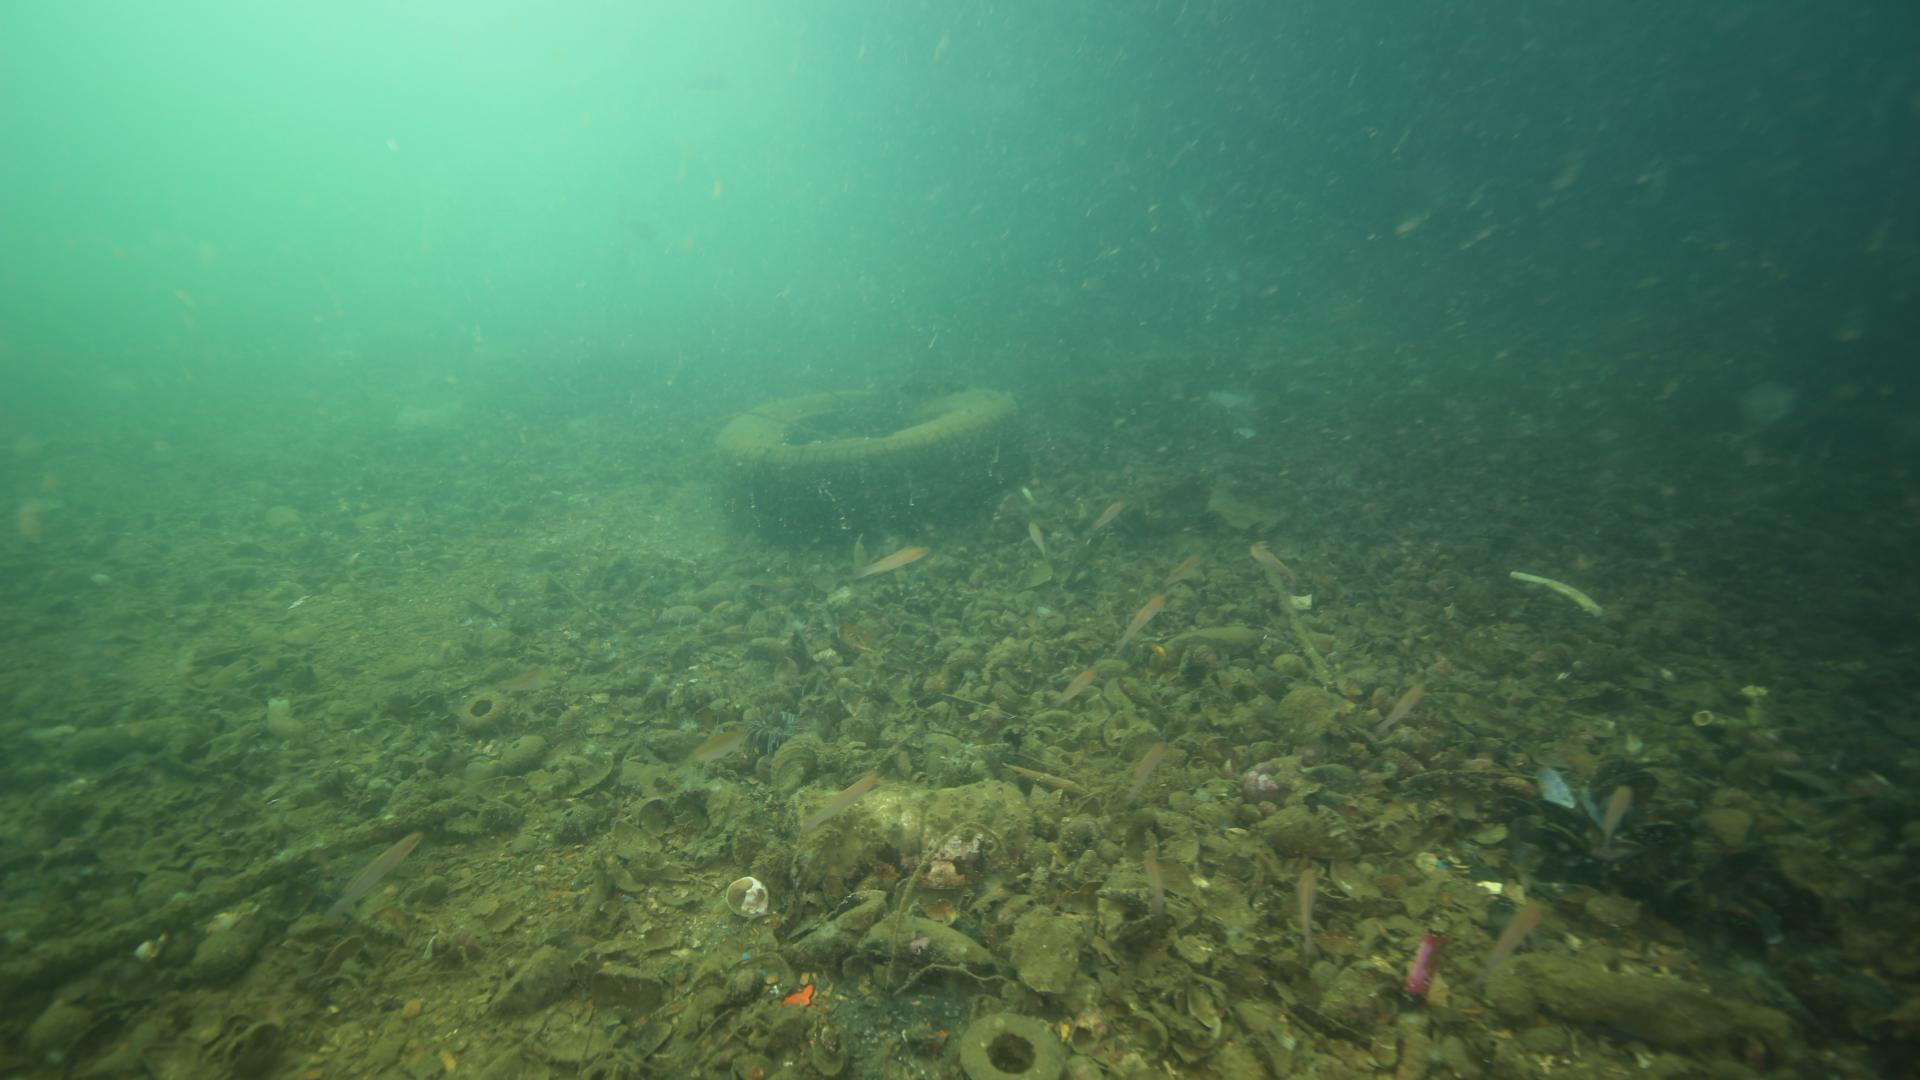tire: (709, 381, 1019, 543)
